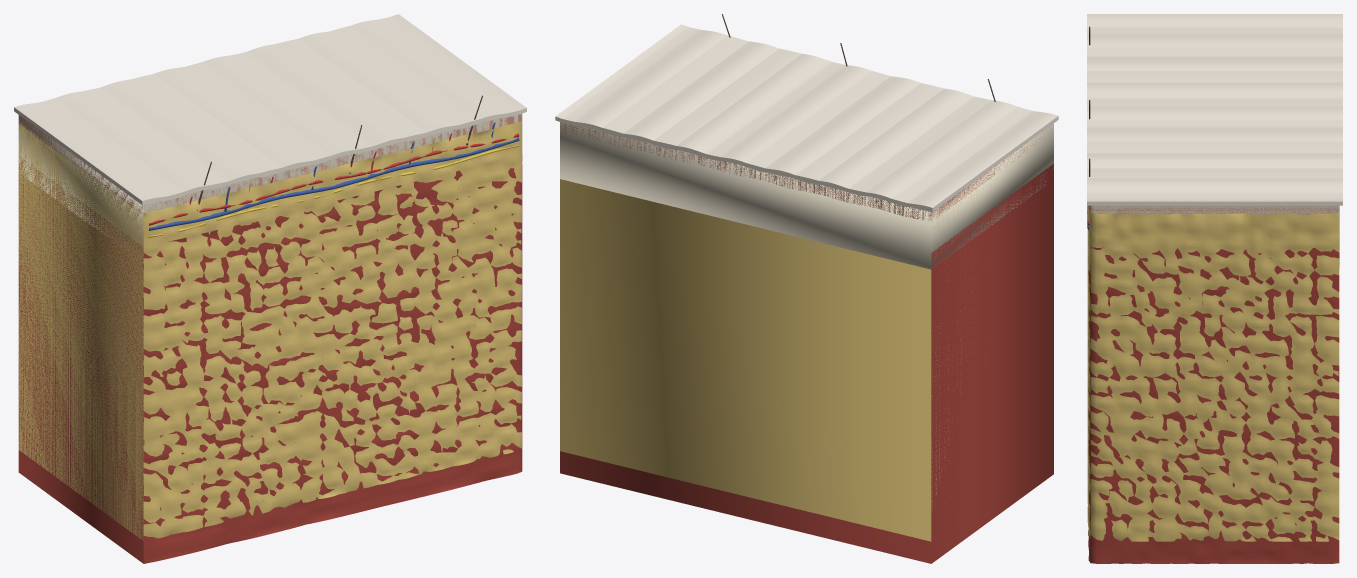
File: tissue.glb
3 views of the same model, side by side, from view 1: azimuth 30°, elevation 25°; view 2: azimuth 150°, elevation 25°; view 3: azimuth 270°, elevation 25° (orthographic).
Parts seen in each view (by area): view 1: Tissue_Fat, Tissue_Muscle, Tissue_Fascia, Tissue_Periosteum, Tissue_Bone, Tissue_Dermis, Tissue_Venule, Tissue_Arteriole, Tissue_Nerve; view 2: Tissue_Fat, Tissue_Muscle, Tissue_Fascia, Tissue_Bone, Tissue_Periosteum, Tissue_Dermis; view 3: Tissue_Fat, Tissue_Fascia, Tissue_Muscle, Tissue_Periosteum, Tissue_Bone, Tissue_Dermis, Tissue_Epidermis.
Part boxes in pixels (x1,y1,x2,y2): Tissue_Fat: (18,121,522,540); Tissue_Muscle: (18,155,522,563); Tissue_Fascia: (14,14,526,204); Tissue_Periosteum: (14,16,525,205); Tissue_Bone: (18,114,522,262); Tissue_Dermis: (18,114,521,212); Tissue_Venule: (149,122,519,230); Tissue_Arteriole: (149,133,519,225); Tissue_Nerve: (148,137,518,237); Tissue_Fat: (560,179,990,541); Tissue_Muscle: (560,163,1053,563); Tissue_Fascia: (555,24,1058,211); Tissue_Bone: (560,122,1053,269); Tissue_Periosteum: (555,27,1058,211); Tissue_Dermis: (560,123,1052,221); Tissue_Fat: (1087,205,1339,541); Tissue_Fascia: (1087,14,1342,205); Tissue_Muscle: (1088,247,1339,563); Tissue_Periosteum: (1087,27,1342,205); Tissue_Bone: (1090,205,1339,263); Tissue_Dermis: (1090,207,1339,216); Tissue_Epidermis: (1090,205,1339,207).
Bounding box in the file's own units: 0.0711 × 0.0682 × 0.0411.
